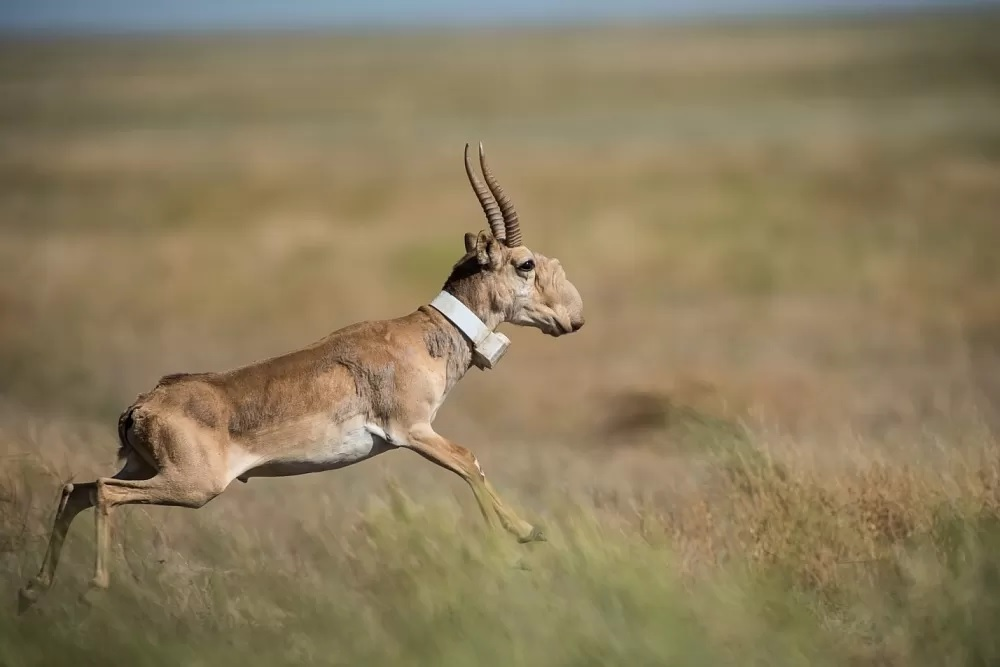saiga: (40, 140, 585, 576)
